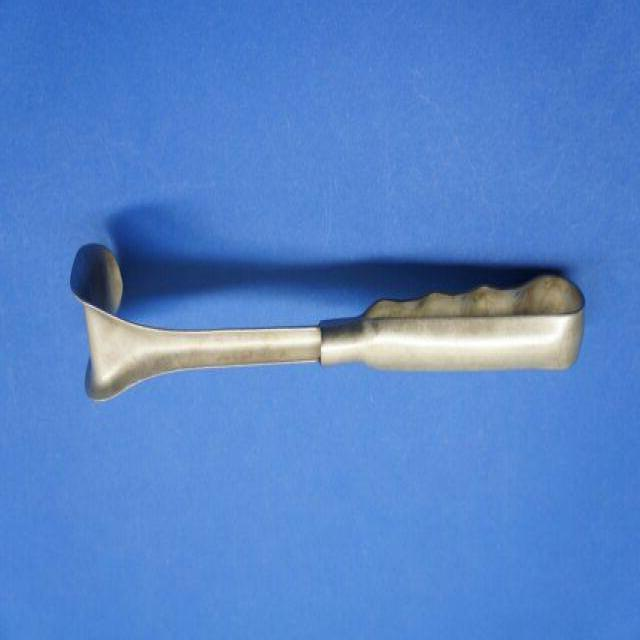Richardson: (66, 234, 590, 410)
